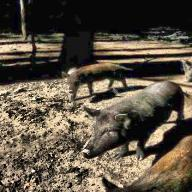boar: (78, 85, 192, 170), (60, 68, 134, 96)
